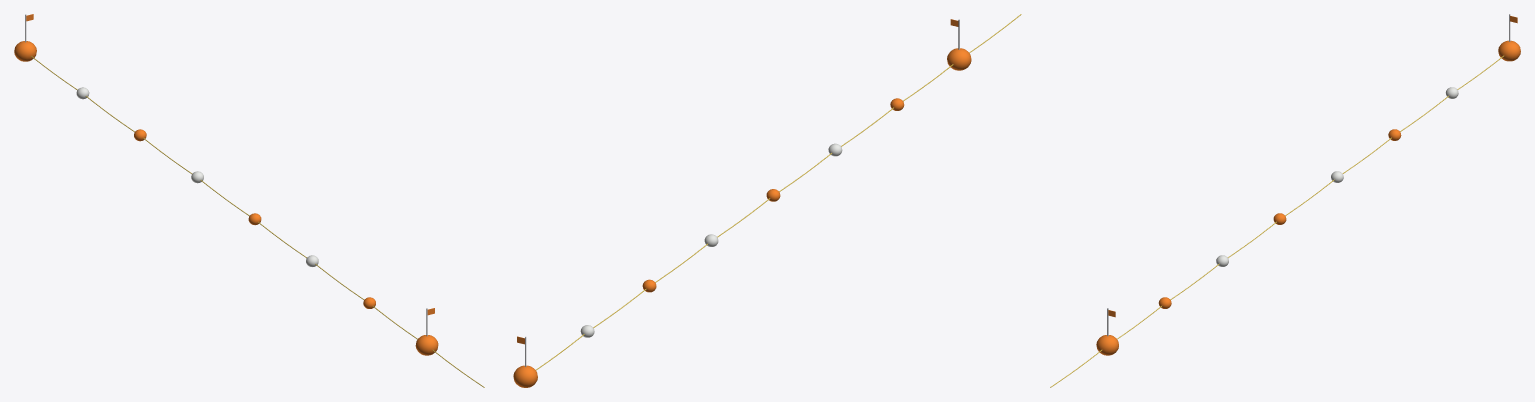
File: jetski-buoys.glb
The picture shows the model from 3 angles, left to right: view 1: azimuth 30°, elevation 25°; view 2: azimuth 150°, elevation 25°; view 3: azimuth 330°, elevation 25°; orthographic projection. The views are drawn at different scales.
Visible parts, largest first — view 1: Buoys; view 2: Buoys; view 3: Buoys.
Part boxes in pixels (box(x1,y1,x2,y2)): Buoys: box(14, 14, 484, 387); Buoys: box(513, 14, 1021, 387); Buoys: box(1050, 14, 1520, 387).
Bounding box in the file's own units: 0.6 × 1.33 × 24.3.
